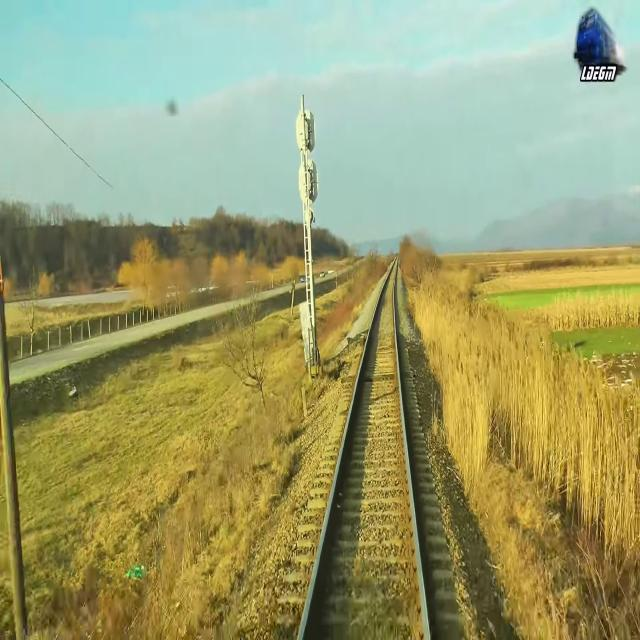rail-track: (302, 257, 428, 639)
